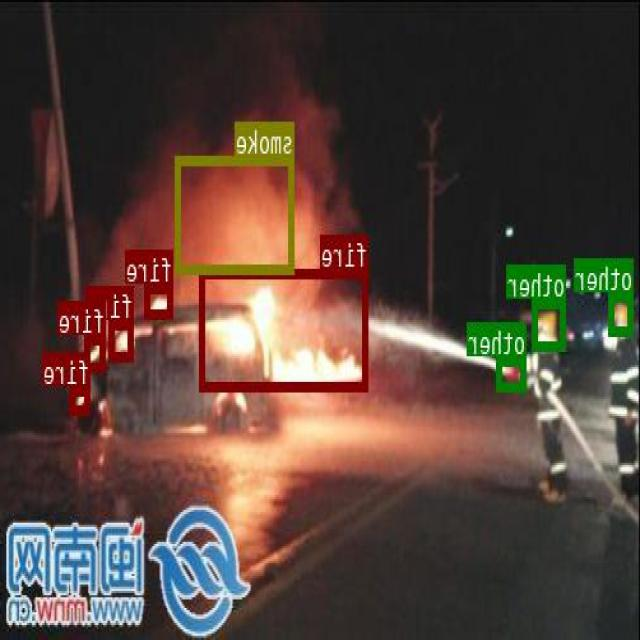fire: (201, 268, 370, 390), (110, 319, 135, 360), (146, 283, 175, 316), (85, 334, 106, 369), (70, 385, 92, 413)
other: (534, 298, 566, 348), (498, 355, 527, 390), (610, 292, 634, 334)
smoke: (176, 154, 295, 272)
